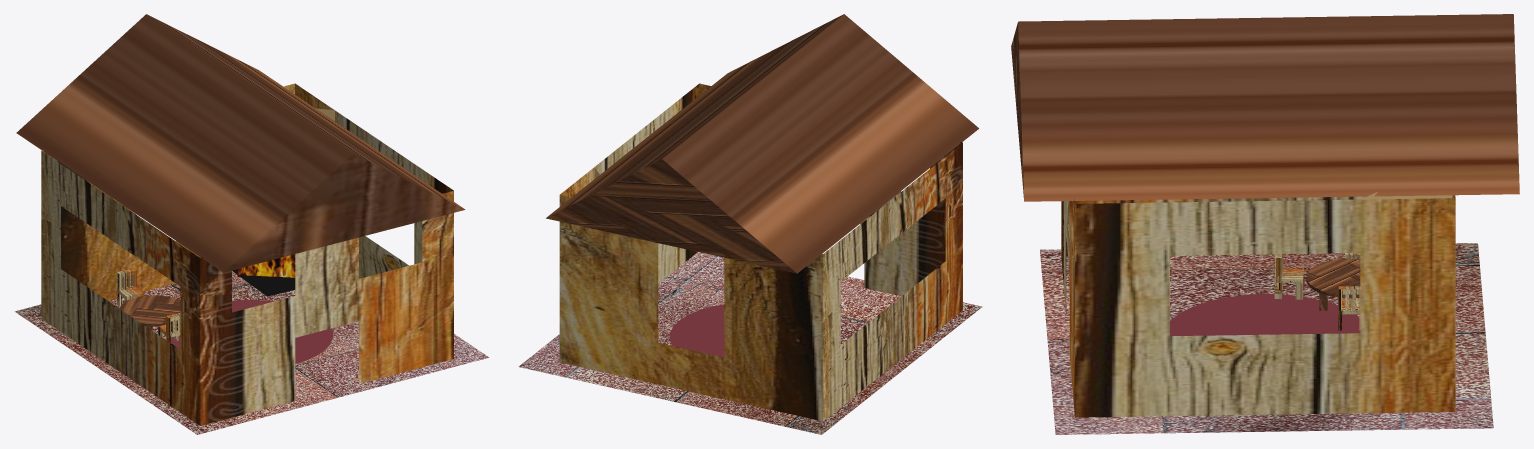
Rendered from casa.glb.
3 renders of one model, left to right at view 1: azimuth 30°, elevation 25°; view 2: azimuth 150°, elevation 25°; view 3: azimuth 270°, elevation 25°, orthographic. The views are drawn at different scales.
Visible parts, largest first — view 1: Cube.001, Cube, Plane, Cylinder, Cylinder.001, Plane.001, Plane.002, Cube.002, Cube.004; view 2: Cube.001, Cube, Plane, Cylinder.001; view 3: Cube.001, Cube, Plane, Cylinder.001, Cylinder, Cube.004, Cube.005.
Part boxes in pixels (left/top/right/bottom): Cube.001: left=16, top=14, right=465, bottom=272; Cube: left=41, top=83, right=453, bottom=425; Plane: left=14, top=271, right=488, bottom=434; Cylinder: left=120, top=295, right=180, bottom=330; Cylinder.001: left=170, top=300, right=333, bottom=363; Plane.001: left=237, top=254, right=295, bottom=277; Plane.002: left=232, top=269, right=295, bottom=296; Cube.002: left=117, top=268, right=144, bottom=306; Cube.004: left=158, top=313, right=180, bottom=342; Cube.001: left=546, top=14, right=978, bottom=273; Cube: left=559, top=83, right=962, bottom=421; Plane: left=518, top=252, right=982, bottom=434; Cylinder.001: left=669, top=304, right=724, bottom=357; Cube.001: left=1011, top=14, right=1519, bottom=201; Cube: left=1061, top=192, right=1455, bottom=417; Plane: left=1040, top=243, right=1493, bottom=434; Cylinder.001: left=1170, top=294, right=1360, bottom=336; Cylinder: left=1306, top=258, right=1360, bottom=310; Cube.004: left=1274, top=254, right=1304, bottom=299; Cube.005: left=1338, top=286, right=1360, bottom=330.
Bounding box in the file's own units: 10.54 × 8.2 × 11.81.
7 materials, 5 textured.
